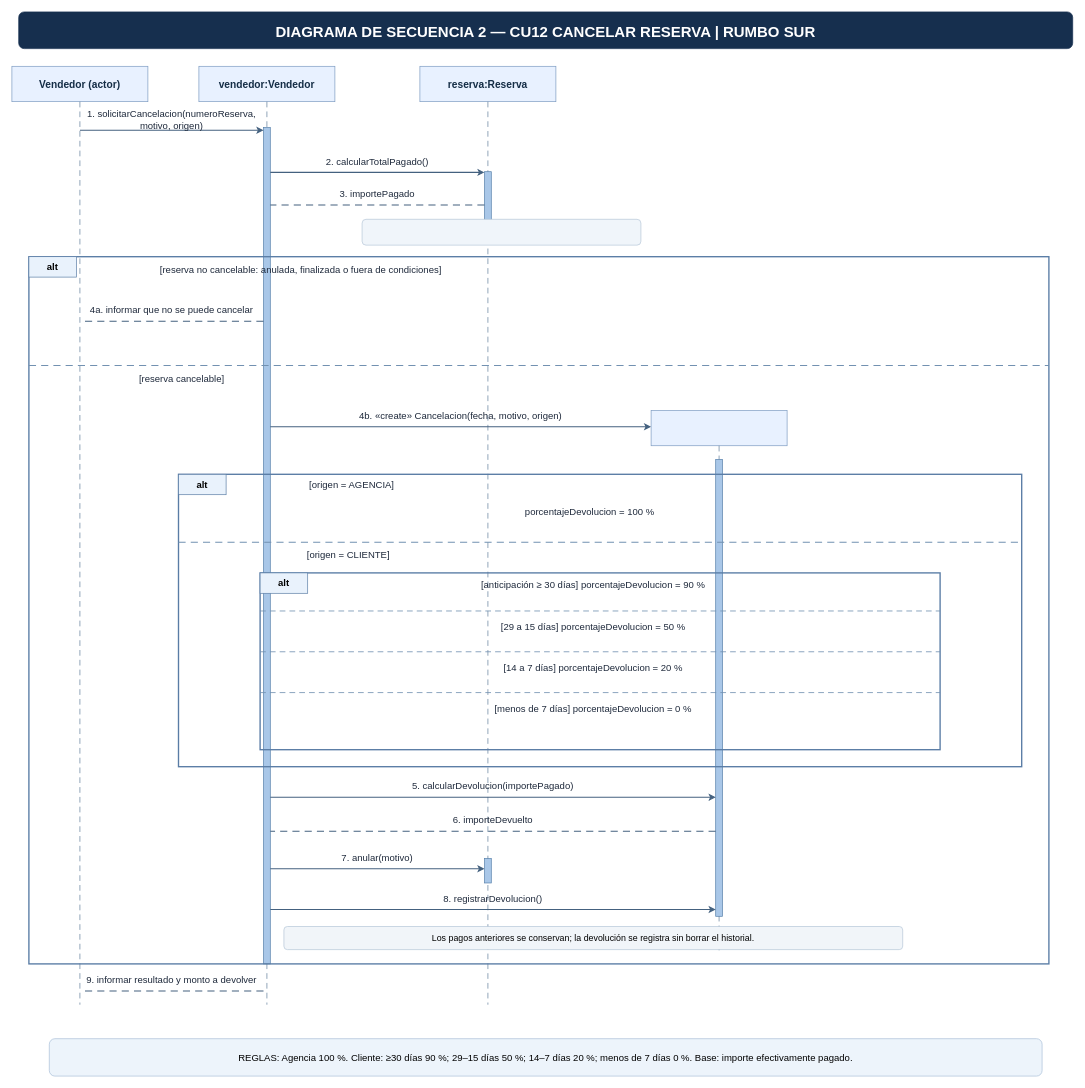
Image size: 1085x1088. Some labels were removed from this diagram. The shapes that lost their labels are listed below. From the top down, each one's centre as x and y in pixels, then its label:
At [501,232]: "Estado y fecha de salida: datos consultados de la reserva".
At [718,428]: "cancelacion:Cancelacion".
